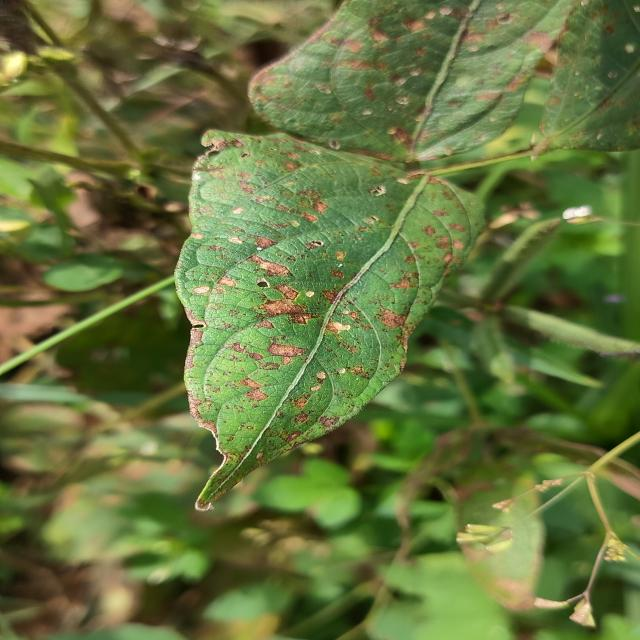Black gram_leaf spot: (174, 130, 483, 510), (248, 0, 573, 162)
